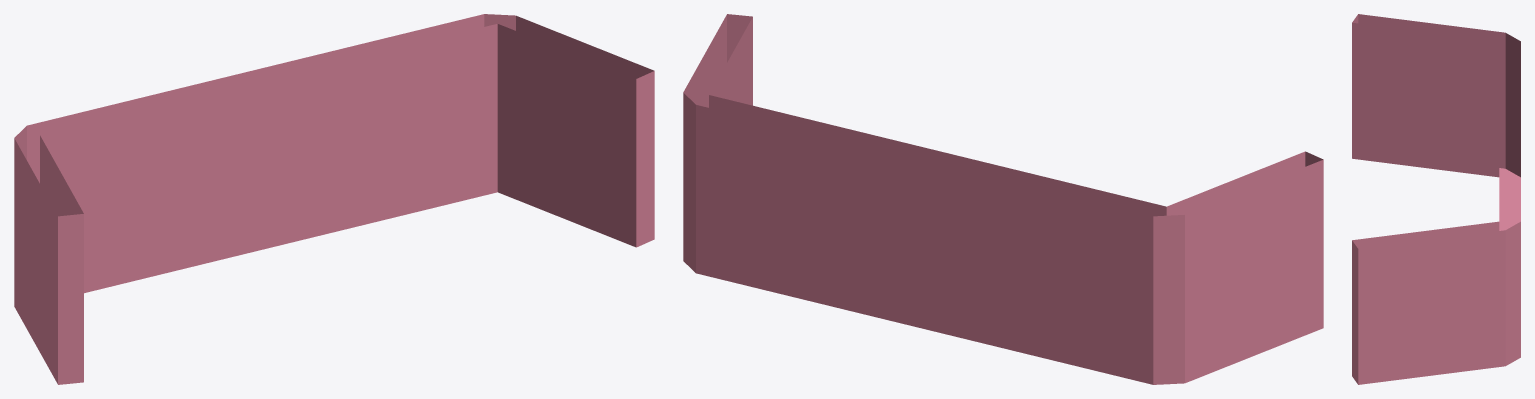
File: LightCoverModel.fbx
The picture shows the model from 3 angles, left to right: view 1: azimuth 30°, elevation 25°; view 2: azimuth 150°, elevation 25°; view 3: azimuth 270°, elevation 25°; orthographic projection. The views are drawn at different scales.
Parts seen in each view (by area): view 1: Plane.003; view 2: Plane.003; view 3: Plane.003.
Boxes of the visible parts, x1,y1,x2,y2 form: Plane.003: (14,14,654,384); Plane.003: (683,14,1323,384); Plane.003: (1352,14,1520,384).
Bounding box in the file's own units: 2592 × 700 × 787.
